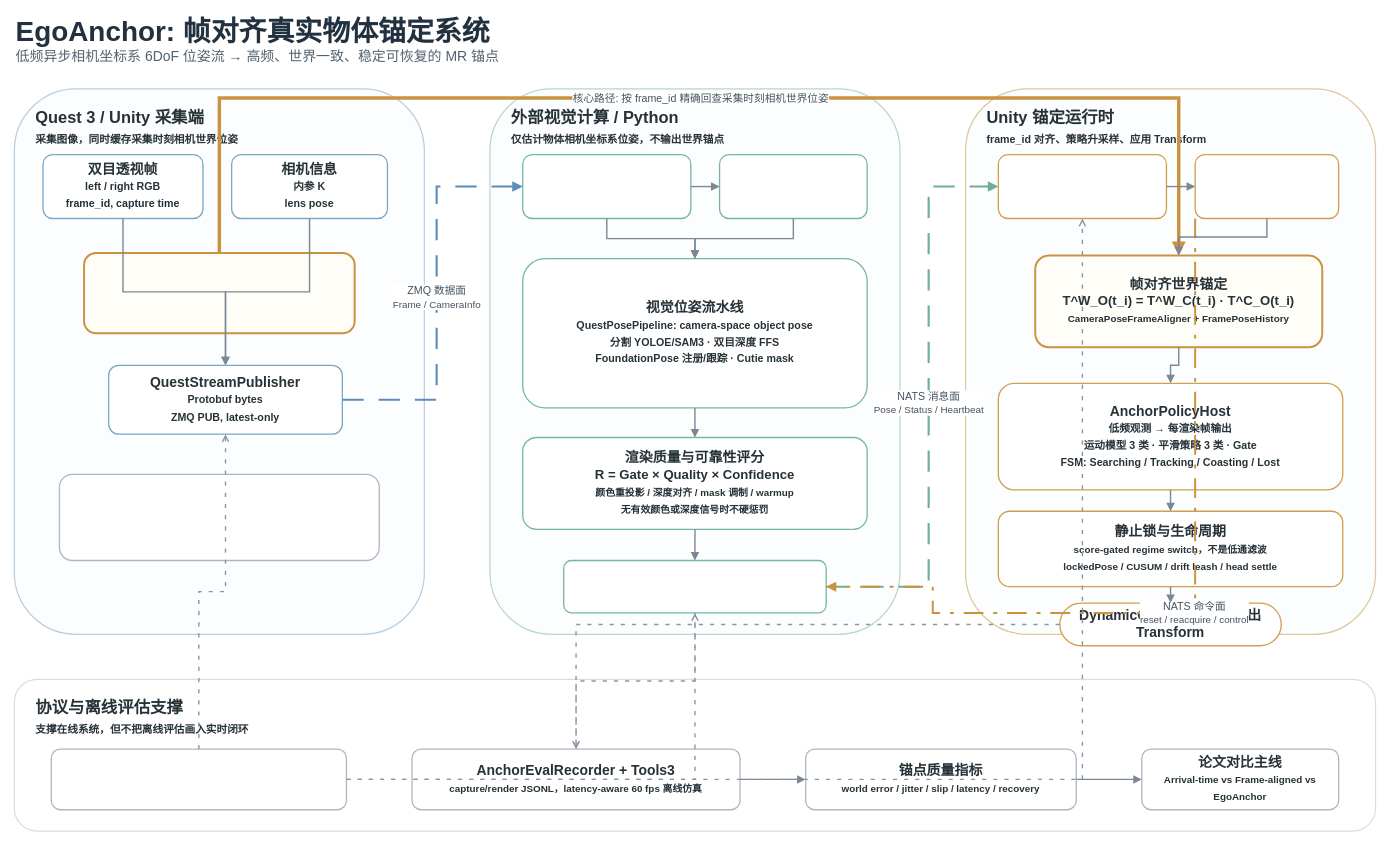
The diagram is 1391 pixels wide and 845 high, and some of its shapes have lost their labels. The centre of each missing label's shape, as x and y in pixels:
"EgoAnchor_Protocol proto + subjects.v1.json → Python / Unity 生成代码" goes at [198,779].
"Pose 接收 latest drain NatsControlClient" goes at [1082,186].
"TrackingRuntime 持有 pipeline / GPU 状态，发布 PoseResult" goes at [694,586].
"参考相机世界位姿 来自头显自身跟踪 “纯视觉”只修饰物体位姿估计链路" goes at [218,517].
"帧姿态历史 frame_id → T^W_C(t_i) 采集时刻 left / right / center camera pose" goes at [219,293].
"最新帧接收 decode / dedup QuestStreamReceiver" goes at [606,186].
"标定映射 camera_info → K crop / scale" goes at [792,186].
"运行时 Hub fan-out / fan-in 低分重获取汇总" goes at [1266,186].
